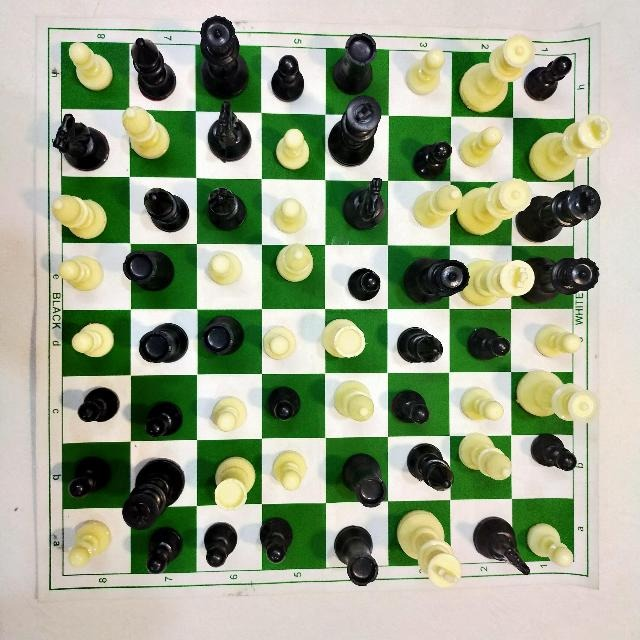black-bishop: (132, 32, 178, 100), (406, 439, 457, 497), (144, 183, 196, 234), (396, 321, 450, 369), (207, 186, 249, 236)
black-king: (118, 453, 191, 531), (513, 185, 604, 242), (327, 98, 385, 168)
black-knight: (46, 111, 115, 172), (471, 511, 530, 579), (334, 170, 392, 231), (206, 103, 258, 164)
black-pawn: (60, 450, 115, 507), (521, 51, 577, 103), (528, 430, 578, 480), (146, 523, 190, 579), (462, 316, 512, 362), (254, 512, 299, 562), (261, 381, 309, 427), (200, 519, 245, 566), (142, 394, 190, 438), (268, 50, 306, 104), (76, 383, 118, 431), (410, 137, 456, 179), (392, 383, 431, 430), (343, 262, 383, 303)
black-queen: (519, 253, 602, 309), (199, 11, 250, 99), (400, 259, 469, 304)
black-rook: (330, 519, 382, 590), (331, 27, 381, 97), (134, 312, 186, 372), (342, 445, 388, 509), (120, 244, 177, 290), (200, 311, 244, 359)
white-bishop: (47, 184, 115, 245), (121, 99, 174, 164), (457, 424, 516, 481), (407, 180, 464, 233), (328, 375, 373, 425), (274, 243, 316, 285)
white-king: (528, 110, 618, 180), (393, 506, 463, 590), (457, 252, 534, 307)
white-pawn: (66, 40, 116, 97), (523, 518, 574, 573), (63, 517, 110, 573), (68, 314, 120, 361), (403, 41, 445, 97), (270, 444, 314, 496), (531, 317, 580, 361), (456, 125, 501, 171), (457, 382, 505, 424), (271, 124, 312, 173), (60, 254, 106, 296), (265, 194, 313, 234), (205, 246, 247, 289), (260, 321, 300, 363), (209, 388, 249, 430)
white-queen: (457, 32, 537, 114), (455, 174, 537, 238), (515, 369, 603, 425)
white-rook: (211, 450, 260, 509), (317, 310, 369, 361)
